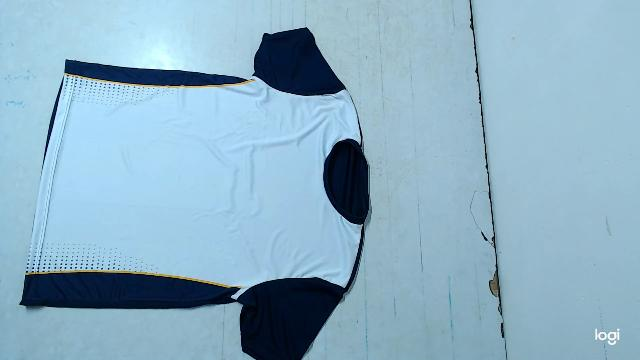new-garment: (20, 28, 369, 360)
